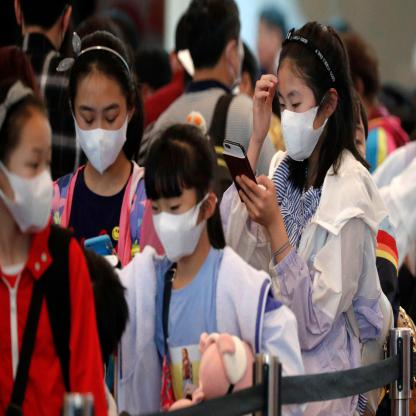Wearing_Mask: (146, 181, 204, 260), (10, 137, 55, 231), (74, 93, 126, 171), (275, 82, 321, 161)
